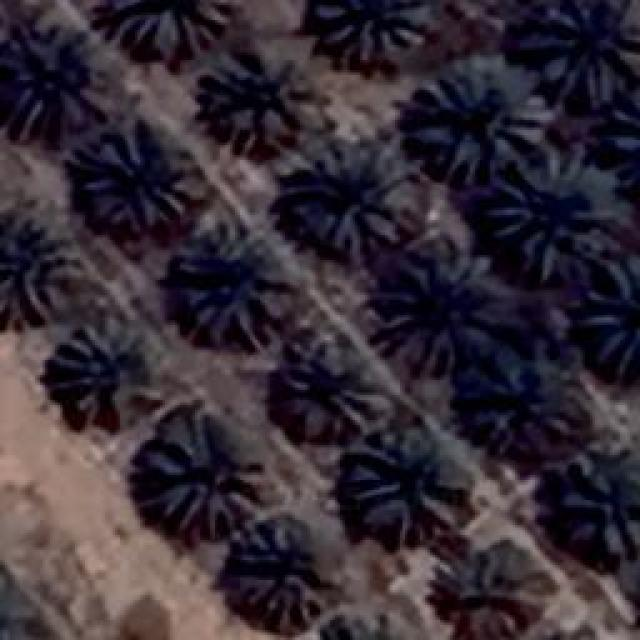PalmTree: (58, 113, 362, 627), (119, 27, 611, 328), (402, 60, 548, 180), (170, 218, 300, 350), (290, 130, 420, 252), (135, 418, 263, 540), (490, 155, 612, 283), (375, 252, 503, 370), (347, 430, 475, 542), (470, 342, 582, 456), (78, 120, 192, 230), (192, 48, 300, 158), (1, 22, 104, 136), (50, 312, 148, 430), (438, 542, 552, 638), (228, 514, 322, 628), (530, 0, 635, 102), (270, 340, 375, 440), (0, 210, 70, 325), (560, 457, 638, 555), (312, 0, 429, 62), (105, 0, 230, 52), (608, 85, 640, 209), (0, 574, 42, 640)
